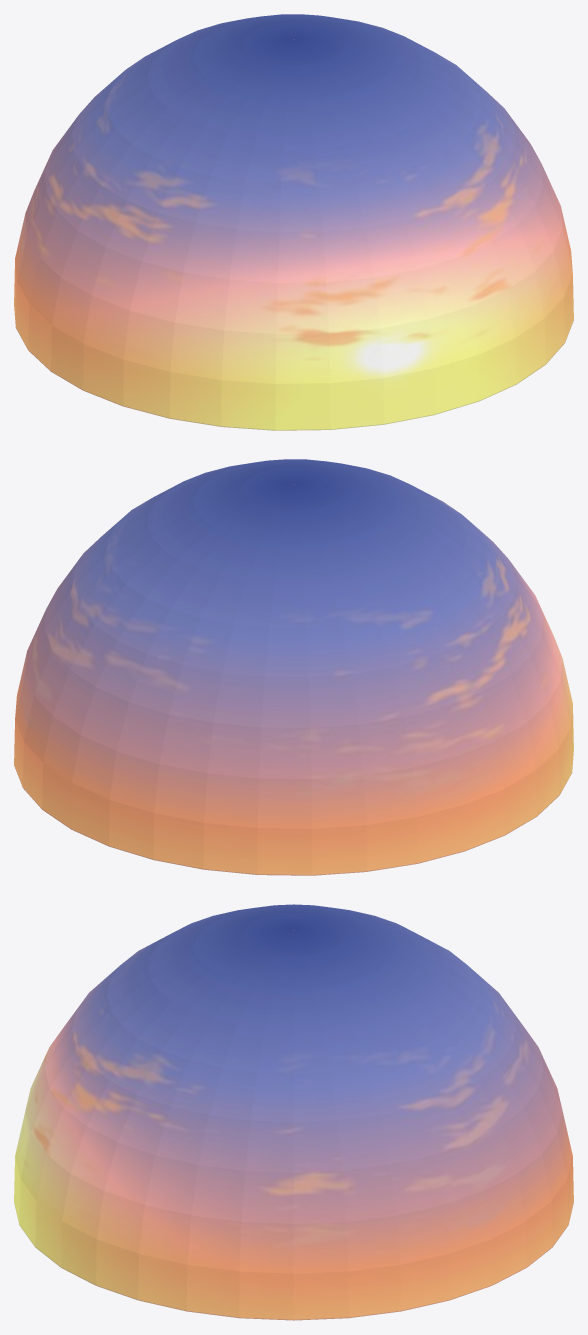
Rendered from lugar-interlagos-ciudad.glb.
3 renders of one model, top to bottom at view 1: azimuth 30°, elevation 25°; view 2: azimuth 150°, elevation 25°; view 3: azimuth 270°, elevation 25°, orthographic.
Visible parts, largest first — view 1: planoC; view 2: planoC; view 3: planoC.
Boxes of the visible parts, x1=… form: planoC: x1=14, y1=14, x2=573, y2=430; planoC: x1=14, y1=459, x2=573, y2=875; planoC: x1=14, y1=904, x2=573, y2=1320.
Size of the model in its own units: 6584 by 3530 by 6584.
11 materials, 9 textured.
